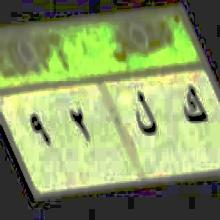2: (68, 98, 95, 148)
9: (29, 107, 51, 151)
kaaf: (182, 81, 210, 133)
laam: (136, 83, 158, 147)
